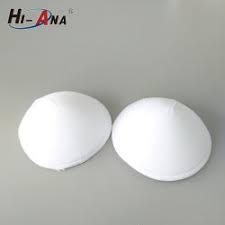Liquid: (2, 69, 224, 208)
